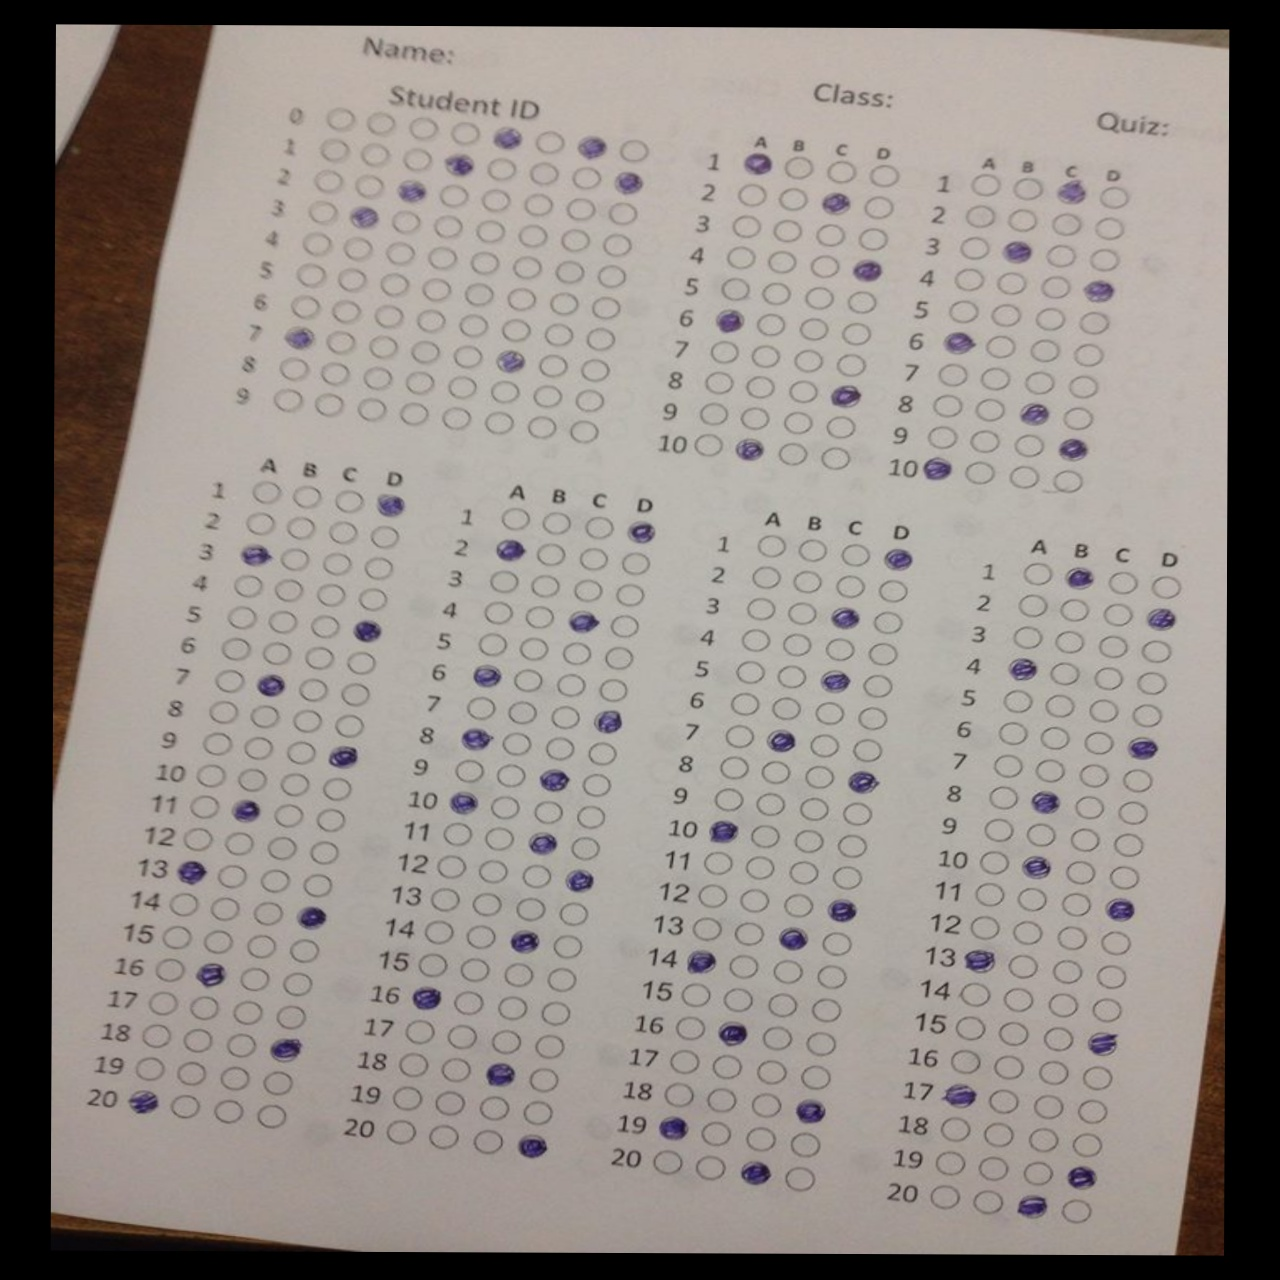not-c: (1057, 1194, 1095, 1226), (1005, 949, 1041, 981), (781, 1163, 816, 1194), (819, 930, 859, 956), (969, 1186, 1005, 1217), (1050, 956, 1085, 987), (770, 956, 806, 986), (932, 1149, 968, 1178), (975, 1153, 1012, 1183), (1026, 1125, 1063, 1153), (710, 1051, 744, 1082), (1022, 1157, 1056, 1187), (998, 1017, 1032, 1048), (1030, 1091, 1065, 1121), (721, 985, 757, 1013), (990, 1051, 1027, 1080), (947, 1047, 983, 1075), (1001, 986, 1037, 1014), (981, 815, 1017, 843), (1076, 762, 1112, 790), (1080, 1064, 1117, 1091), (1092, 964, 1130, 990), (1032, 757, 1069, 784), (485, 154, 519, 183), (789, 1129, 823, 1158), (978, 846, 1012, 876), (1064, 858, 1098, 887), (693, 1155, 728, 1183), (413, 307, 449, 334), (852, 704, 890, 730), (681, 979, 713, 1009), (674, 1013, 706, 1043), (761, 278, 794, 307), (470, 890, 503, 919), (754, 531, 787, 560), (750, 1091, 783, 1121), (1042, 1023, 1075, 1053), (433, 1088, 467, 1116), (743, 852, 777, 880), (804, 1030, 838, 1058), (699, 1119, 733, 1148), (930, 1182, 964, 1210), (986, 1087, 1020, 1115), (974, 880, 1008, 908), (1108, 864, 1142, 892), (1073, 794, 1107, 822), (1115, 799, 1149, 828), (568, 165, 604, 192), (839, 802, 874, 829), (830, 864, 865, 891), (1037, 1058, 1073, 1085), (1098, 930, 1133, 956), (734, 182, 770, 207), (959, 980, 990, 1009), (1091, 994, 1123, 1023), (600, 231, 633, 259), (175, 1058, 207, 1087), (459, 955, 492, 983), (538, 1000, 571, 1028), (1150, 573, 1183, 601), (437, 181, 471, 207), (372, 304, 406, 331), (147, 990, 181, 1017), (819, 445, 853, 472), (554, 670, 588, 697), (598, 675, 632, 702), (493, 994, 527, 1021), (389, 1083, 423, 1110), (738, 887, 772, 914), (733, 920, 767, 947), (813, 964, 847, 990), (1070, 1130, 1104, 1157), (982, 1121, 1016, 1148), (953, 1014, 987, 1041), (1046, 990, 1080, 1017), (1069, 828, 1103, 855), (990, 753, 1024, 779), (1087, 697, 1121, 724), (1092, 215, 1126, 241), (946, 298, 980, 325), (1071, 341, 1105, 368), (937, 362, 971, 389), (222, 1033, 257, 1058), (863, 195, 898, 220), (787, 860, 822, 886), (244, 510, 274, 539), (361, 141, 393, 169), (236, 765, 267, 794), (792, 826, 824, 855), (706, 1085, 737, 1114), (1024, 821, 1056, 849), (314, 583, 347, 610), (508, 699, 540, 726), (767, 990, 799, 1017), (760, 1024, 792, 1051), (799, 1063, 832, 1090), (755, 1058, 788, 1085), (651, 1148, 683, 1175), (1107, 568, 1139, 595), (1040, 274, 1073, 301), (1051, 467, 1084, 493), (583, 326, 617, 352), (271, 387, 305, 413), (840, 321, 874, 347), (568, 836, 602, 862), (748, 822, 782, 847), (782, 892, 816, 918), (978, 366, 1012, 392), (931, 393, 965, 418), (279, 973, 314, 998), (540, 510, 576, 535), (618, 549, 653, 573), (744, 595, 779, 620), (1122, 769, 1157, 794), (408, 115, 438, 143), (252, 900, 282, 928), (858, 224, 888, 252), (561, 640, 592, 668), (440, 406, 471, 433), (325, 520, 356, 547), (365, 554, 396, 581), (334, 712, 366, 738), (169, 1091, 200, 1118), (529, 572, 560, 599), (602, 644, 634, 670), (489, 794, 520, 821), (663, 1081, 695, 1108), (745, 1125, 777, 1152), (1056, 922, 1088, 949), (1114, 831, 1145, 858), (1022, 559, 1054, 586), (1080, 309, 1111, 336), (588, 297, 625, 320), (302, 647, 335, 673), (182, 1027, 215, 1053), (869, 162, 901, 188), (794, 348, 826, 374), (791, 570, 824, 595), (781, 631, 813, 656), (697, 883, 730, 908), (690, 915, 723, 941), (1012, 919, 1044, 945), (1060, 892, 1092, 918), (988, 784, 1021, 810), (985, 333, 1017, 359), (1008, 463, 1041, 489), (481, 188, 515, 212), (376, 272, 410, 297), (805, 285, 839, 309), (573, 578, 607, 602), (836, 832, 870, 857), (1016, 887, 1050, 912), (964, 205, 998, 230), (328, 299, 363, 322), (457, 312, 486, 340), (139, 1022, 169, 1050), (479, 1092, 509, 1121), (876, 578, 911, 601), (758, 761, 794, 784), (341, 236, 372, 263), (346, 651, 376, 678), (215, 1096, 245, 1123), (257, 1102, 287, 1129), (443, 821, 474, 847), (490, 1028, 520, 1055), (523, 1099, 553, 1126), (811, 995, 842, 1022), (969, 913, 1000, 940), (998, 719, 1028, 745), (1137, 670, 1167, 697), (1014, 433, 1044, 459), (536, 128, 567, 154), (527, 161, 559, 186), (353, 172, 384, 198), (206, 699, 238, 724), (782, 409, 813, 435), (777, 441, 809, 467), (583, 515, 614, 540), (503, 962, 535, 988), (402, 1020, 434, 1046), (527, 1067, 559, 1092), (940, 1115, 972, 1141), (1102, 601, 1133, 627), (312, 166, 345, 191), (595, 265, 628, 290), (504, 287, 537, 312), (407, 340, 440, 365), (318, 360, 350, 384), (489, 380, 522, 404), (182, 826, 215, 851), (216, 864, 248, 888), (836, 353, 869, 377), (788, 380, 821, 404), (517, 636, 550, 661), (469, 1130, 502, 1155), (1053, 629, 1085, 654), (1016, 592, 1049, 617), (1088, 247, 1121, 272), (990, 302, 1023, 327), (1023, 370, 1056, 395), (424, 245, 458, 268), (290, 294, 324, 318), (324, 329, 358, 353), (331, 489, 365, 512), (823, 415, 857, 438), (614, 584, 648, 607), (549, 706, 583, 729), (543, 736, 577, 760), (493, 763, 527, 787), (365, 108, 394, 135), (574, 388, 604, 415), (215, 667, 244, 694), (210, 896, 239, 922), (581, 772, 611, 799), (704, 847, 734, 874), (301, 230, 332, 256), (251, 478, 281, 504), (286, 740, 316, 765), (321, 778, 352, 804), (267, 836, 298, 862), (309, 842, 340, 867), (232, 999, 263, 1024), (709, 339, 740, 365), (467, 924, 497, 949), (729, 692, 760, 717), (1076, 1099, 1107, 1125), (1046, 693, 1076, 719), (1094, 666, 1124, 692), (1051, 211, 1082, 237), (1046, 243, 1076, 268), (927, 424, 958, 450), (243, 934, 278, 956), (324, 107, 355, 131), (294, 263, 326, 287), (526, 414, 558, 438), (243, 735, 274, 760), (315, 808, 347, 832), (203, 930, 234, 954), (154, 956, 185, 981), (188, 994, 219, 1019), (279, 772, 311, 797), (721, 278, 753, 302), (740, 406, 771, 430), (692, 434, 723, 458), (557, 903, 588, 927), (440, 1057, 471, 1082), (427, 1124, 458, 1149), (869, 644, 900, 668), (668, 1050, 700, 1075), (1040, 724, 1071, 749), (1049, 661, 1081, 686), (1007, 209, 1039, 233), (617, 139, 649, 163), (400, 147, 433, 170), (365, 334, 397, 358), (451, 346, 484, 369), (579, 358, 612, 381), (275, 356, 308, 380), (568, 418, 601, 442), (290, 708, 322, 731), (239, 968, 272, 992), (488, 568, 520, 592), (822, 636, 855, 660), (806, 734, 839, 757), (852, 738, 885, 762), (727, 955, 760, 979), (1067, 375, 1099, 399), (353, 587, 387, 610), (301, 873, 335, 896), (168, 893, 197, 919), (278, 1005, 307, 1030), (816, 222, 845, 247), (751, 343, 781, 369), (467, 695, 496, 721), (516, 897, 545, 922), (425, 920, 455, 946), (549, 966, 578, 992), (816, 700, 845, 726), (565, 197, 595, 222), (516, 223, 546, 247), (553, 260, 584, 285), (465, 281, 496, 306), (315, 393, 346, 417), (372, 524, 402, 549), (322, 551, 353, 576), (273, 578, 304, 602), (338, 683, 368, 708), (136, 1055, 166, 1080), (731, 213, 762, 238), (810, 254, 840, 279), (532, 1034, 563, 1058), (396, 1053, 427, 1077), (1058, 598, 1089, 622), (1013, 176, 1043, 200), (607, 203, 642, 224), (384, 241, 416, 265), (470, 248, 502, 272), (421, 277, 452, 300), (545, 324, 577, 347), (271, 804, 302, 828), (726, 247, 757, 271), (536, 542, 567, 565), (741, 629, 772, 653), (1097, 635, 1129, 659), (1139, 640, 1171, 663), (996, 272, 1028, 295), (307, 200, 340, 223), (474, 220, 506, 243), (336, 268, 369, 291), (445, 376, 478, 399), (230, 573, 263, 595), (501, 731, 533, 754), (434, 855, 467, 877), (383, 1121, 416, 1143), (1034, 308, 1067, 331), (299, 678, 326, 704), (479, 632, 506, 659), (590, 740, 618, 765), (447, 1024, 475, 1050), (788, 600, 816, 626), (512, 254, 542, 279), (204, 734, 233, 758), (223, 830, 252, 855), (162, 925, 191, 949), (290, 937, 319, 961), (778, 188, 808, 212), (525, 605, 554, 629), (515, 668, 544, 693), (873, 610, 903, 634), (805, 765, 835, 790), (1029, 339, 1058, 363), (964, 461, 993, 485), (560, 230, 594, 251), (362, 365, 393, 388), (531, 384, 561, 408), (798, 538, 829, 561), (749, 565, 779, 588), (862, 673, 892, 696), (724, 726, 755, 749), (713, 788, 743, 811), (1063, 406, 1094, 429), (523, 192, 554, 215), (435, 215, 467, 237), (290, 486, 321, 509), (577, 806, 608, 829), (1130, 704, 1162, 727), (1097, 186, 1129, 209), (828, 159, 855, 185), (760, 312, 787, 338), (549, 293, 581, 314), (502, 318, 530, 342), (358, 397, 386, 422), (399, 401, 427, 425), (227, 605, 256, 629), (222, 636, 250, 661), (770, 220, 803, 241), (768, 250, 796, 274), (485, 599, 513, 624), (835, 576, 867, 597), (1003, 688, 1032, 713), (971, 429, 999, 454), (260, 869, 290, 892), (219, 1065, 248, 1089), (700, 401, 729, 424), (522, 864, 551, 887), (430, 888, 459, 912), (418, 954, 448, 978), (455, 993, 484, 1016), (840, 543, 870, 566), (778, 665, 808, 688), (1013, 626, 1042, 649), (971, 173, 1000, 197), (959, 236, 988, 259), (975, 397, 1005, 421), (195, 765, 225, 788), (551, 937, 581, 959), (1084, 731, 1115, 754), (704, 372, 736, 393), (268, 612, 295, 636), (191, 795, 218, 819), (452, 120, 481, 143), (392, 211, 420, 234), (486, 410, 515, 434), (281, 547, 309, 571), (251, 704, 279, 728), (737, 661, 765, 685), (772, 695, 801, 719), (319, 139, 352, 159), (404, 372, 434, 394), (312, 614, 341, 636), (485, 828, 515, 850), (478, 860, 508, 883), (954, 268, 983, 291), (261, 644, 292, 665), (263, 1073, 293, 1094), (745, 377, 776, 399), (501, 509, 531, 530), (610, 615, 640, 636), (719, 757, 749, 778), (801, 316, 828, 340), (535, 801, 561, 824), (847, 290, 876, 312), (799, 798, 828, 821), (539, 354, 568, 375), (456, 760, 485, 781), (757, 794, 787, 815), (288, 517, 314, 540), (785, 156, 811, 179), (580, 549, 607, 571)
taken-c: (274, 324, 315, 353), (372, 490, 409, 518), (792, 1095, 828, 1124), (1085, 1027, 1121, 1056), (293, 903, 327, 932), (588, 704, 622, 734), (737, 150, 772, 178), (1124, 734, 1159, 762), (491, 350, 527, 377), (845, 768, 881, 795), (940, 1082, 976, 1109), (256, 670, 288, 700), (447, 787, 479, 816), (125, 1087, 159, 1115), (408, 983, 442, 1012), (239, 542, 274, 568), (737, 1158, 772, 1185), (1017, 400, 1050, 428), (1028, 787, 1061, 815), (850, 259, 884, 286), (828, 381, 862, 408), (459, 726, 493, 753), (881, 545, 915, 572), (655, 1114, 689, 1141), (1080, 280, 1115, 306), (349, 618, 384, 644), (515, 1133, 550, 1159), (683, 949, 719, 975), (1053, 178, 1089, 203), (483, 1061, 515, 1089), (611, 169, 644, 196), (1001, 239, 1034, 266), (942, 329, 975, 356), (173, 857, 206, 884), (1013, 1191, 1046, 1218), (1006, 655, 1039, 682), (229, 797, 263, 823), (195, 961, 229, 987), (508, 928, 542, 954), (567, 607, 601, 633), (777, 925, 811, 951), (716, 1020, 747, 1048), (347, 204, 379, 231), (537, 767, 568, 794), (266, 1037, 302, 1061), (733, 435, 765, 461), (495, 536, 527, 561), (1064, 1164, 1097, 1190), (1103, 897, 1136, 922), (1145, 605, 1175, 633), (470, 660, 501, 687), (576, 135, 607, 161), (829, 604, 860, 629), (707, 818, 740, 843), (826, 898, 859, 922), (962, 948, 995, 973), (764, 727, 795, 753), (920, 454, 952, 478), (326, 743, 359, 767), (817, 669, 850, 693), (819, 190, 850, 215), (1056, 435, 1087, 459), (713, 309, 745, 332), (444, 151, 474, 176), (560, 867, 591, 891), (624, 519, 655, 542), (1020, 855, 1051, 877), (395, 177, 423, 202), (526, 829, 556, 852), (1064, 566, 1095, 588), (492, 124, 519, 149)
